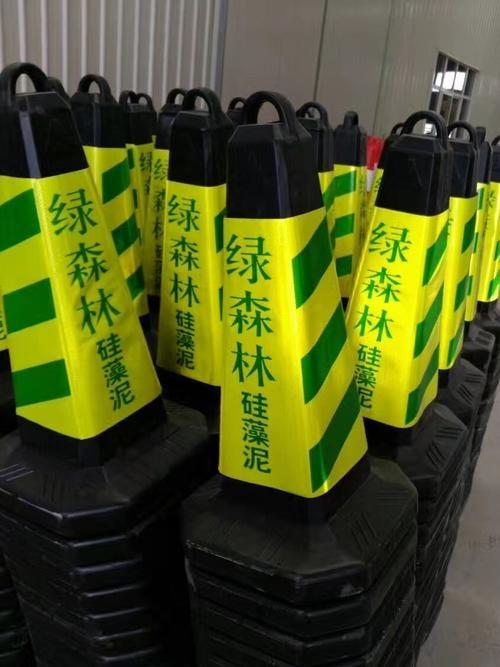cone_barrel: (209, 93, 372, 517), (344, 126, 453, 441), (159, 79, 236, 376)
